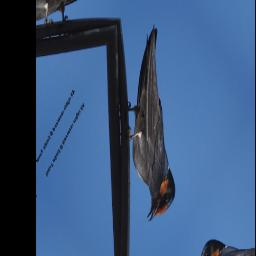Swallow: (92, 24, 220, 233)
